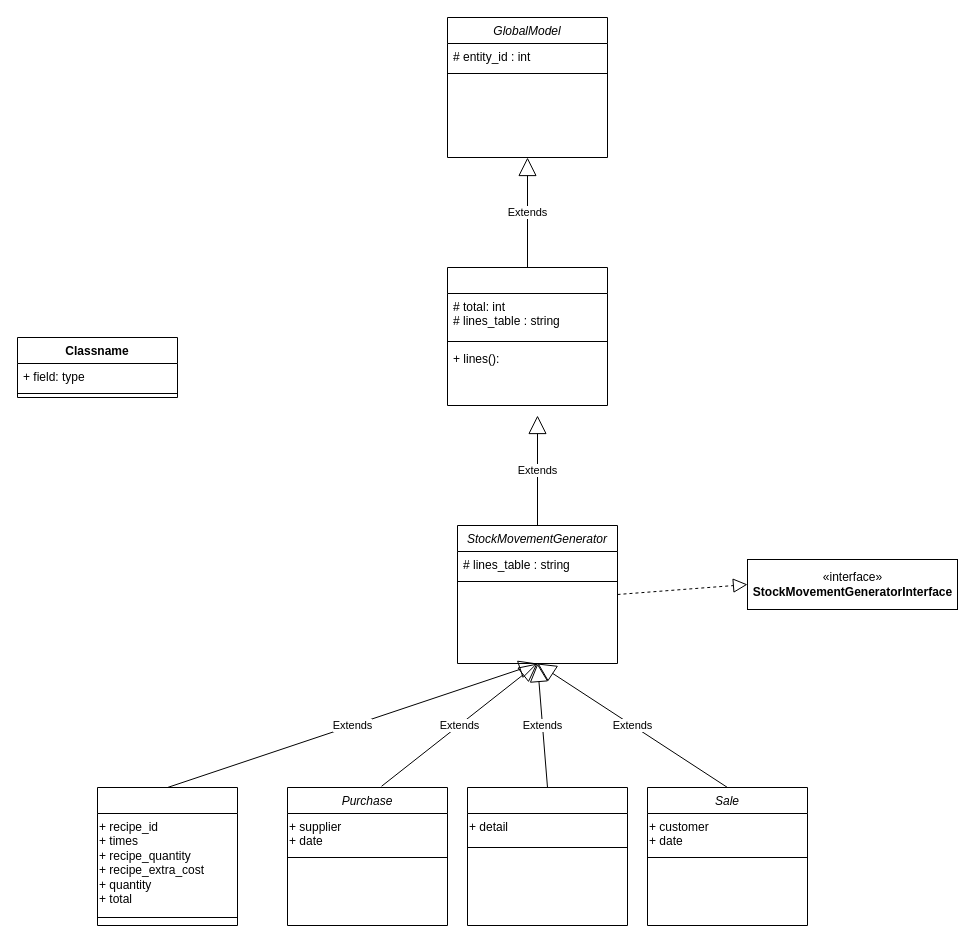
This 975x943 diagram has some shape labels left out. Each missing label, with the box of its shape:
Document: (446, 266, 608, 406)
Production: (96, 786, 238, 926)
Regularization: (466, 786, 628, 926)
